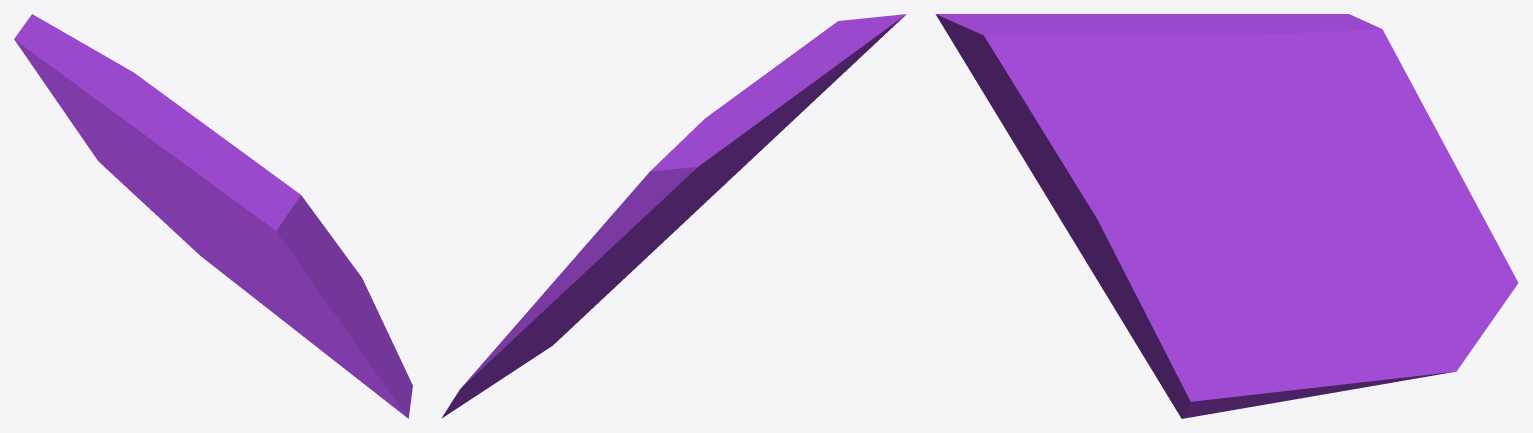
The model's file is Window_70_0_chunks.fbx.
3 views of the same model, side by side, from view 1: azimuth 30°, elevation 25°; view 2: azimuth 150°, elevation 25°; view 3: azimuth 270°, elevation 25° (orthographic). The views are drawn at different scales.
Parts seen in each view (by area): view 1: Window_70_0_2, Window_70_0_1, Window_70_0_0, Window_70_0_3; view 2: Window_70_0_0, Window_70_0_2, Window_70_0_3, Window_70_0_1; view 3: Window_70_0_3, Window_70_0_2, Window_70_0_1, Window_70_0_0.
Part boxes in pixels (left/top/right/bottom): Window_70_0_2: left=108, top=67, right=337, bottom=263; Window_70_0_1: left=207, top=213, right=412, bottom=418; Window_70_0_0: left=14, top=14, right=212, bottom=225; Window_70_0_3: left=66, top=114, right=386, bottom=401; Window_70_0_0: left=548, top=112, right=772, bottom=301; Window_70_0_2: left=690, top=14, right=906, bottom=197; Window_70_0_3: left=441, top=238, right=645, bottom=418; Window_70_0_1: left=542, top=74, right=842, bottom=352; Window_70_0_3: left=1197, top=164, right=1518, bottom=413; Window_70_0_2: left=935, top=14, right=1260, bottom=192; Window_70_0_1: left=979, top=85, right=1222, bottom=418; Window_70_0_0: left=1201, top=14, right=1454, bottom=166.
Size of the model in its own units: 375 by 447 by 803.
